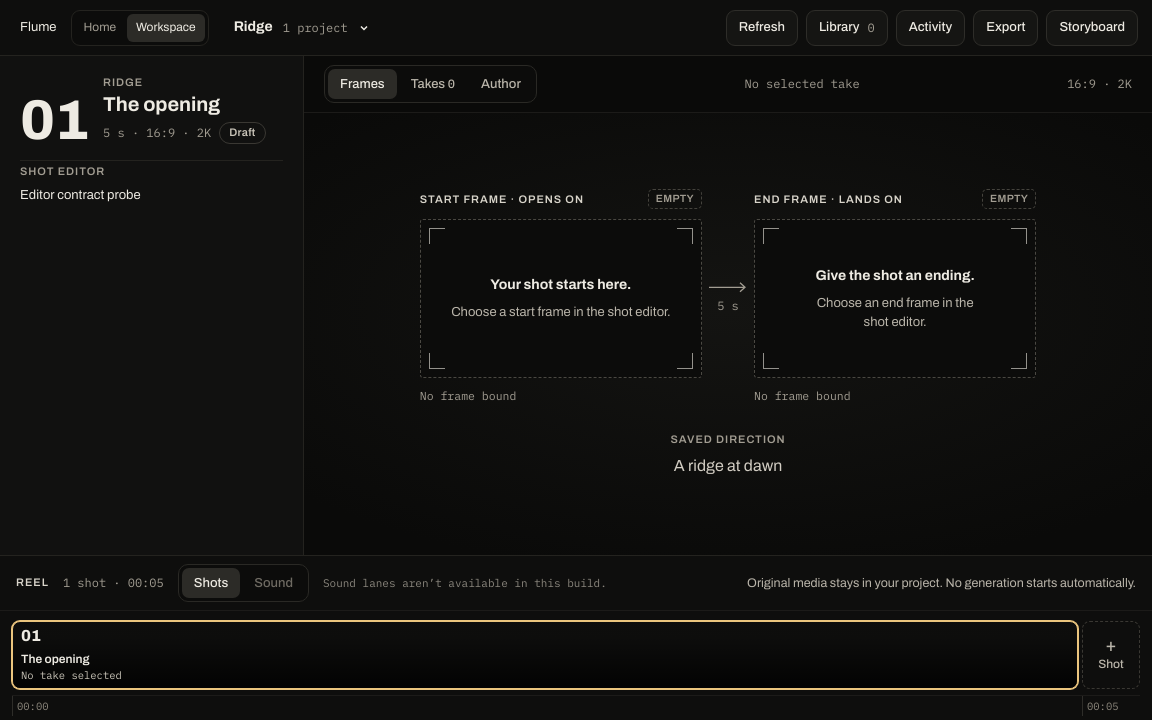
Test: the authoring panel is mounted inside the real workspace stage, beside frames and takes
Check: the heading "Author a frame" is not shown
Click the button "Author". click: x=501, y=84
box: [469,69,533,99]
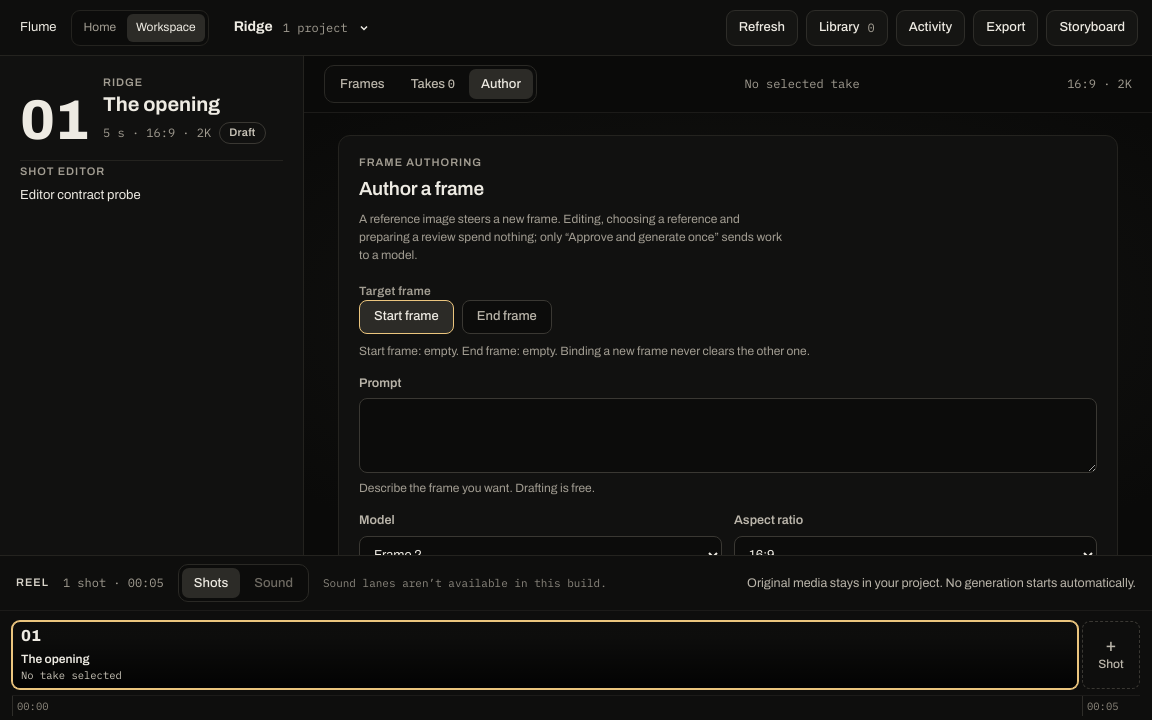
Check: the button "Frames" is shown, box [328,69,397,99]
Check: the heading "Author a frame" is shown, box [359,178,484,199]
